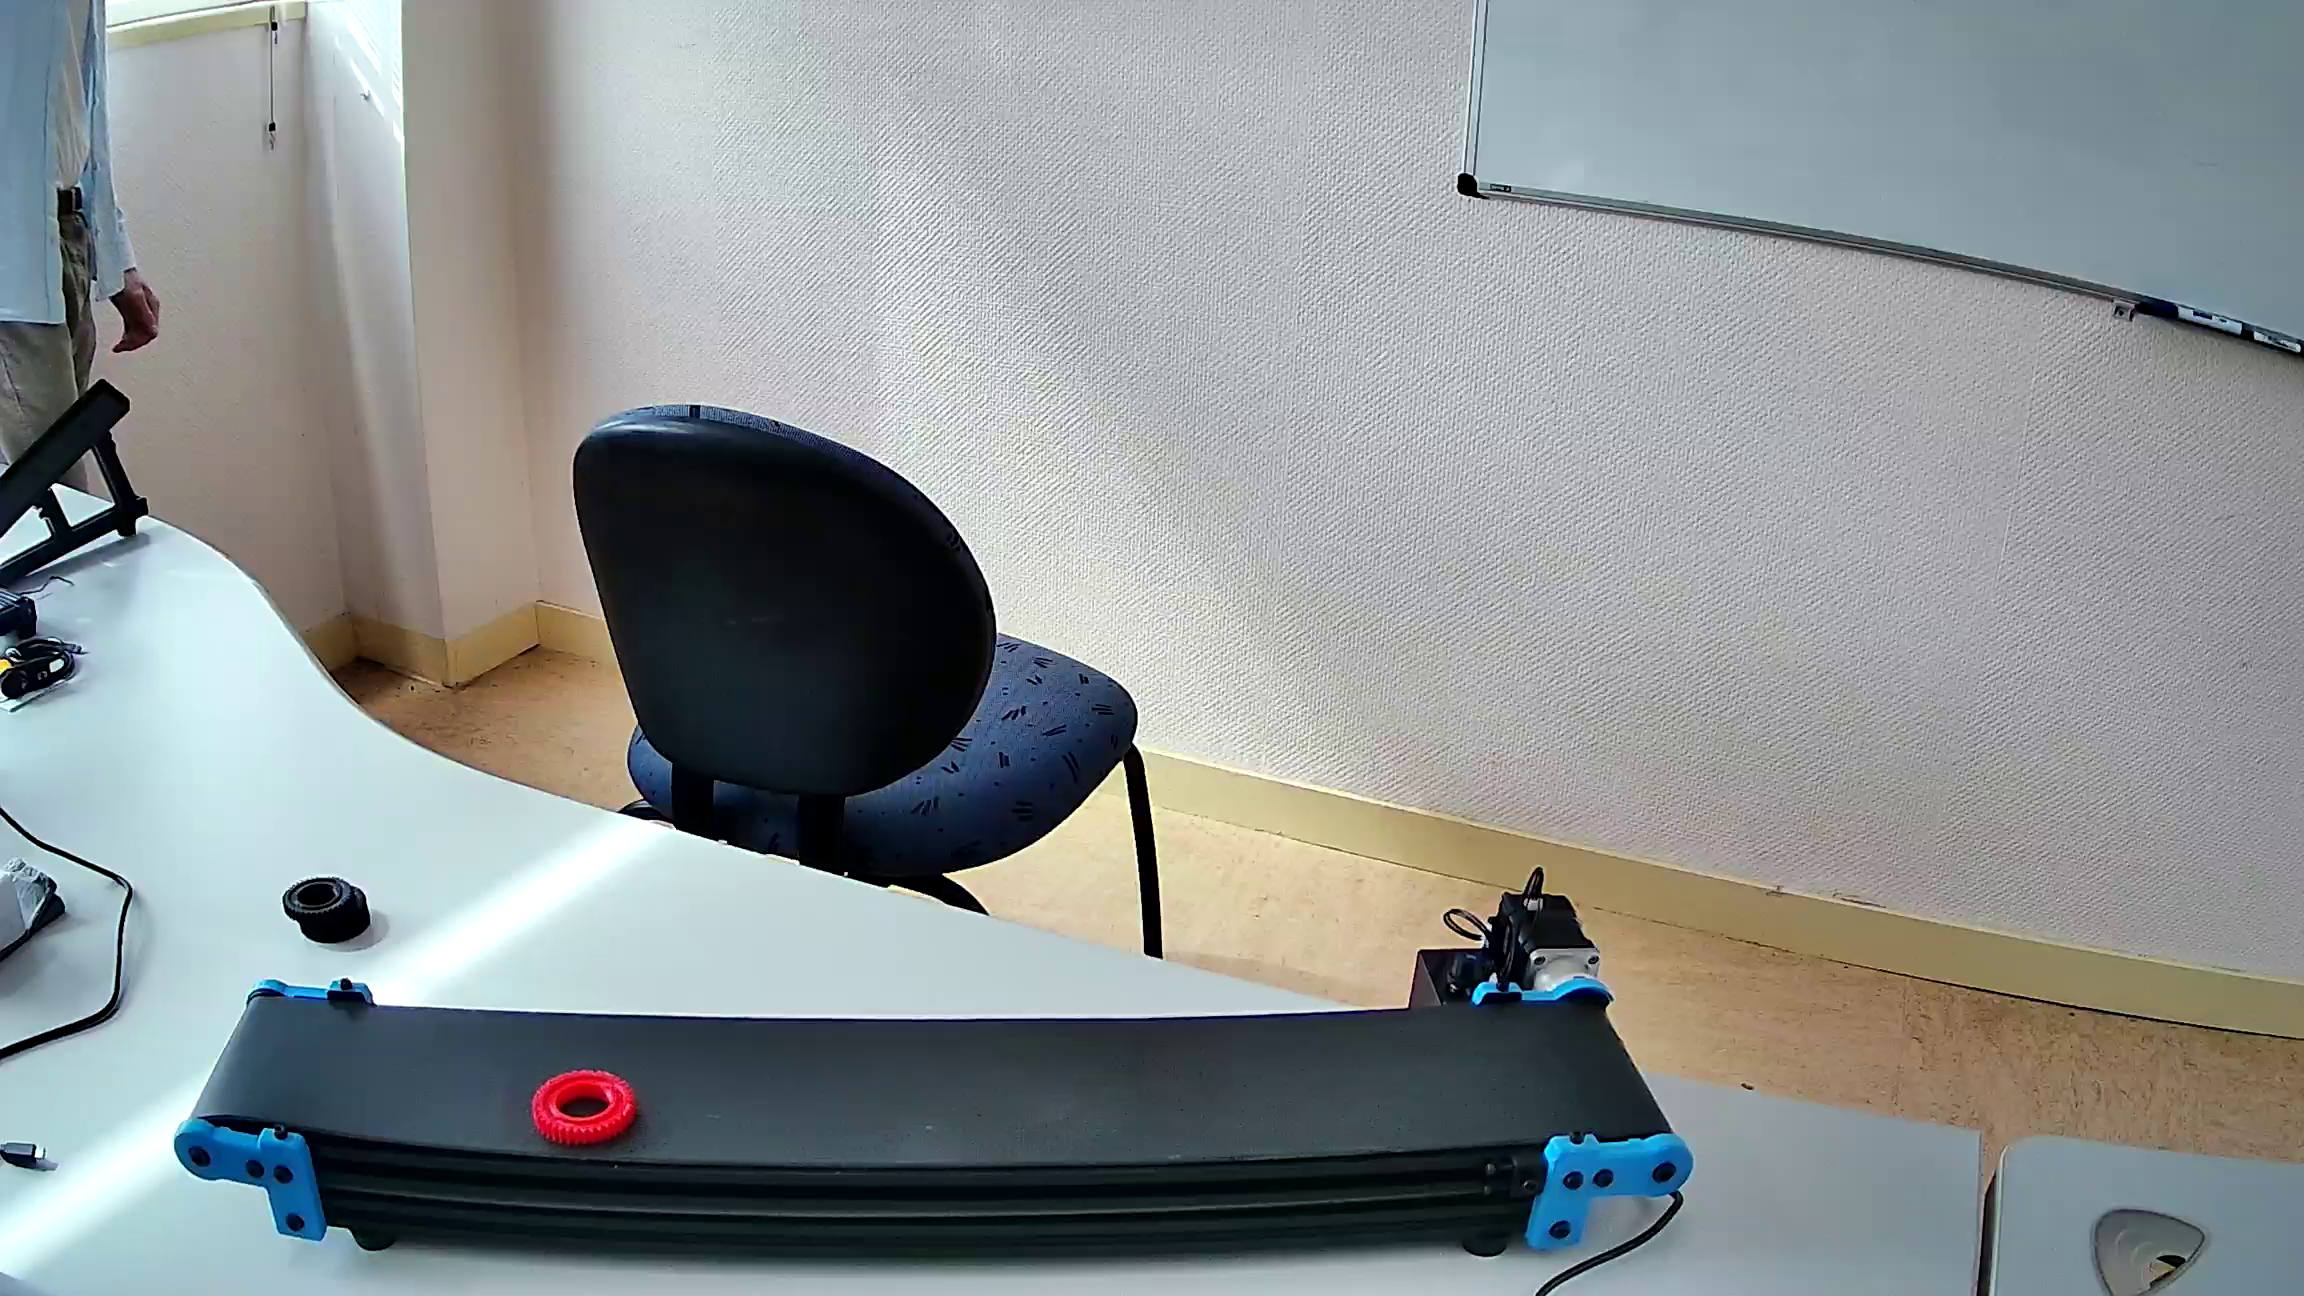good: (280, 878, 377, 942)
not_good: (536, 1071, 639, 1139)
